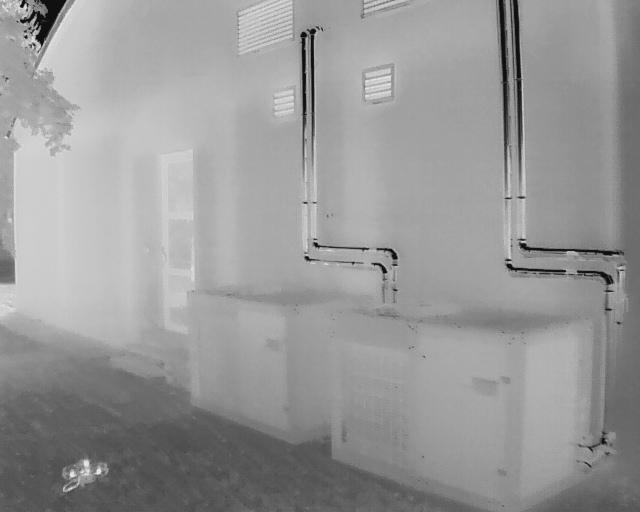drone: (49, 450, 120, 498)
